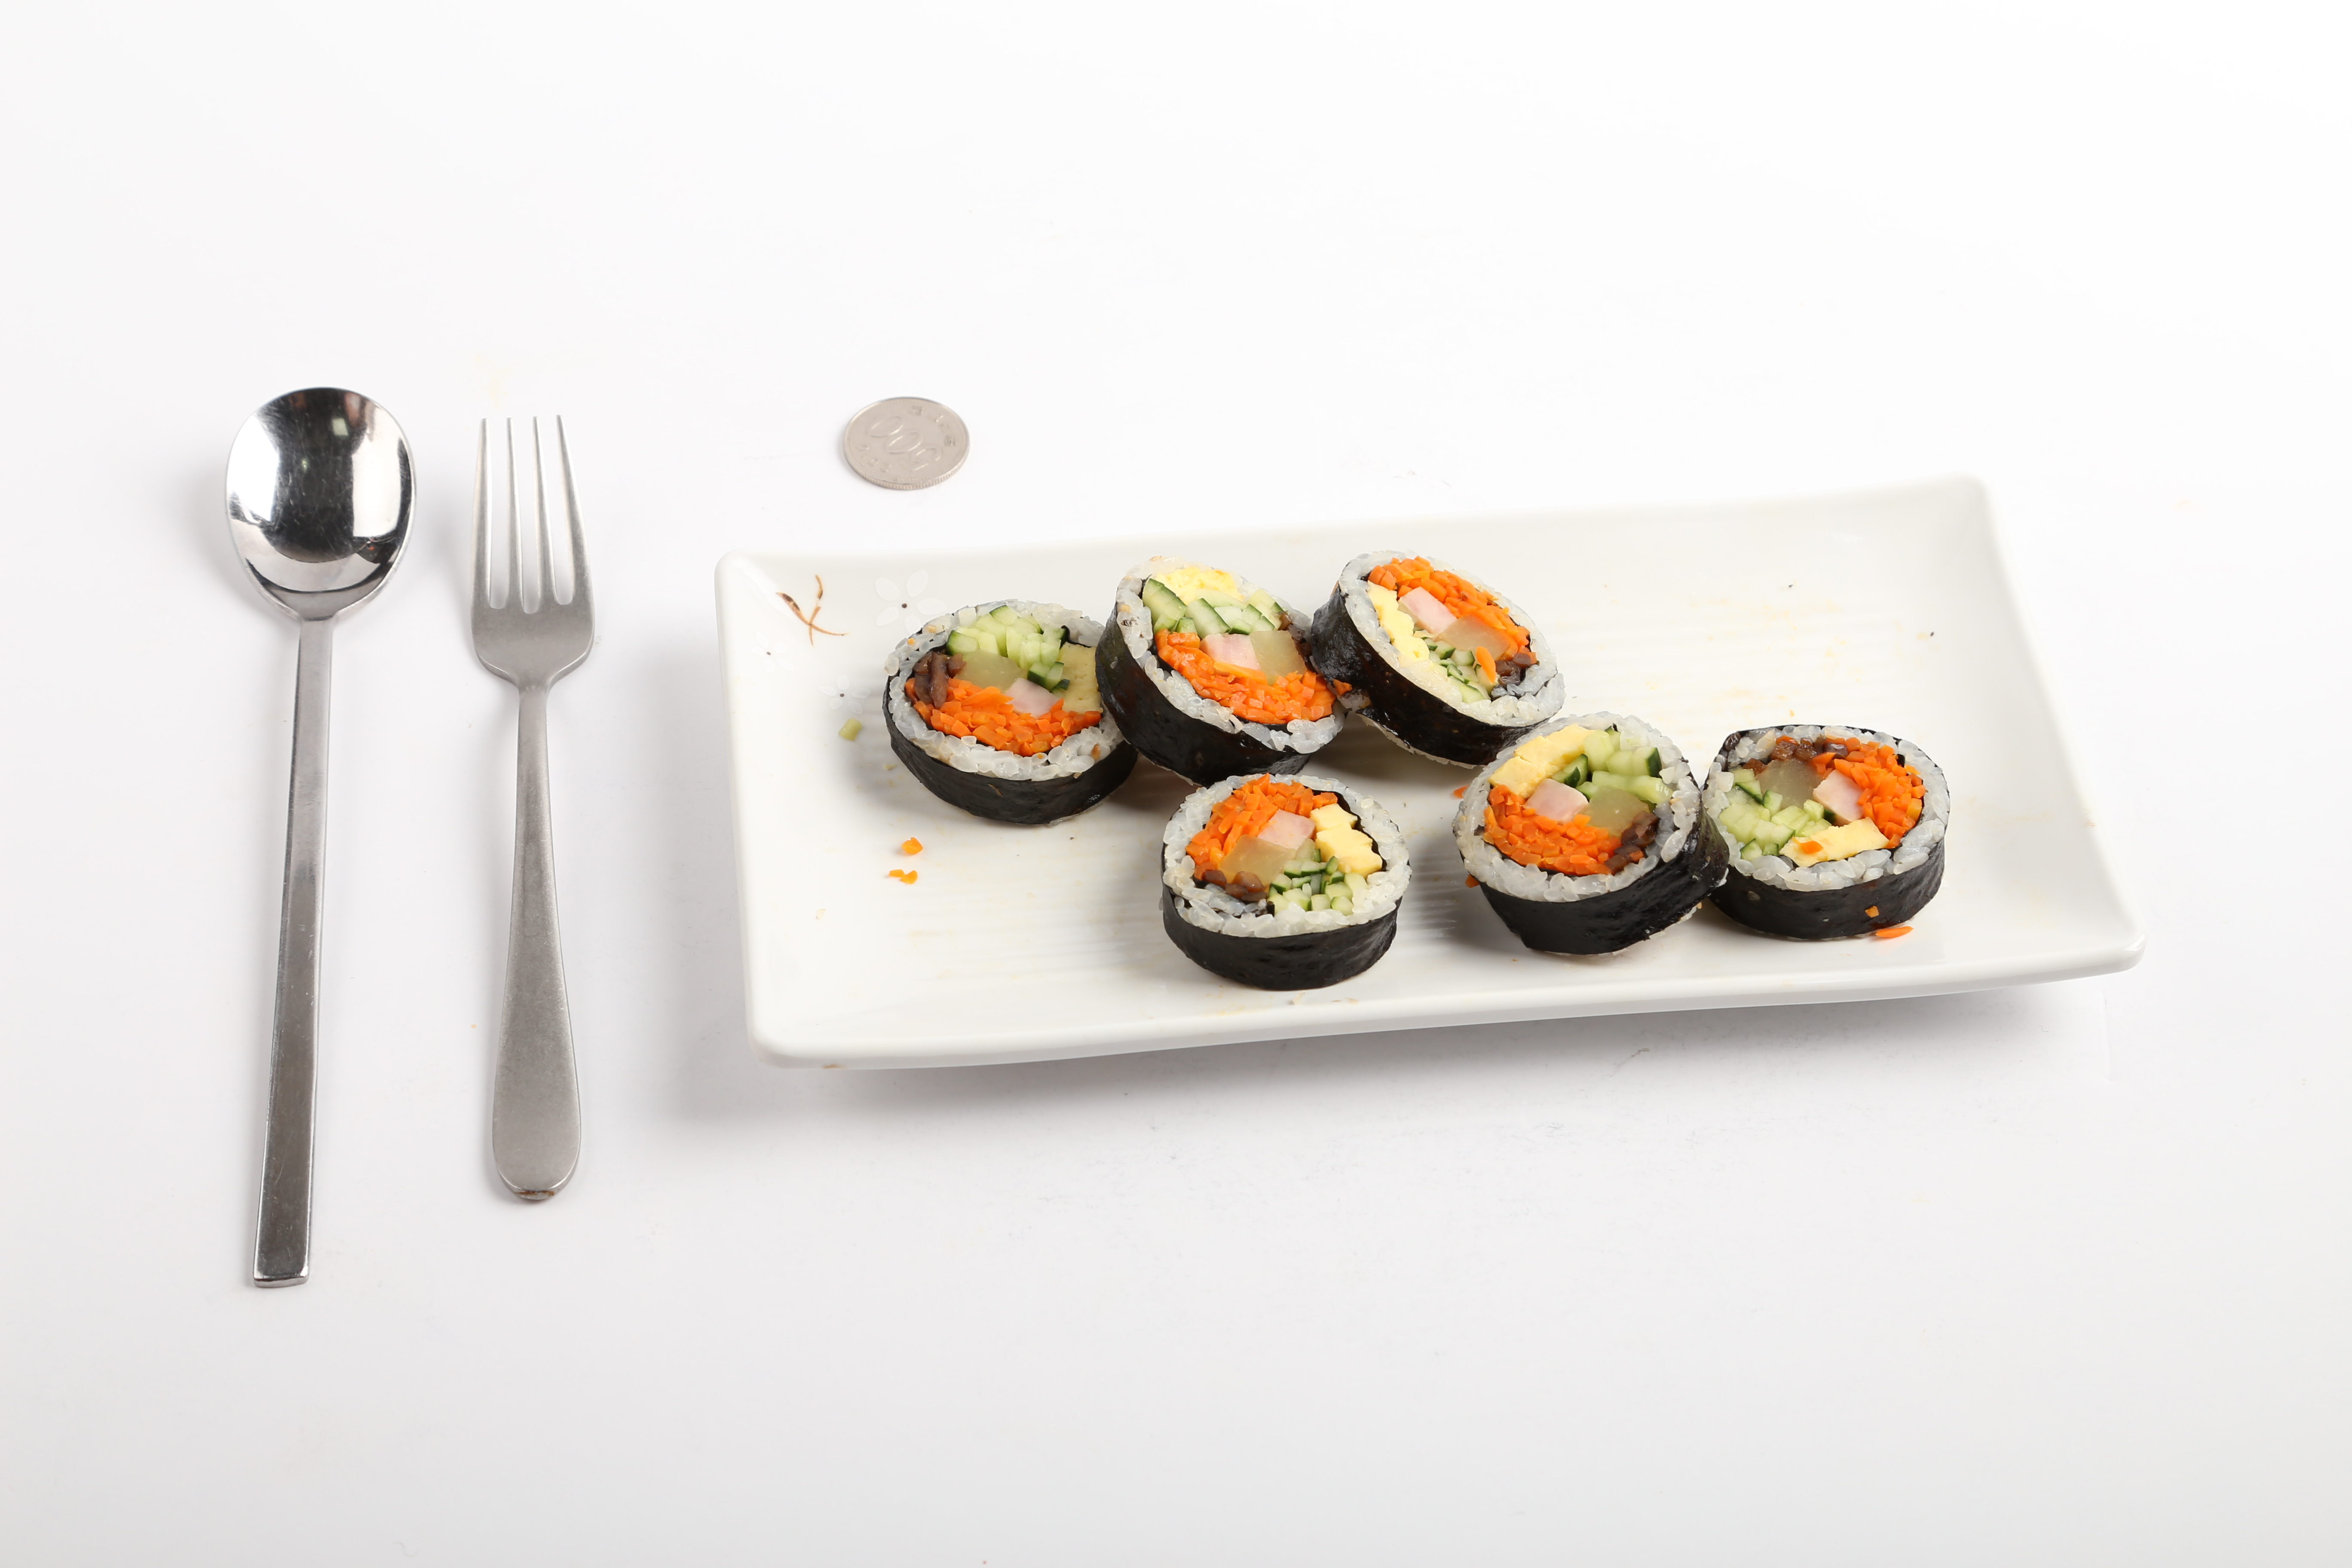dish: (716, 471, 2149, 1078)
ref_coin: (836, 392, 969, 495)
ref_fork: (462, 406, 598, 775)
ref_spoon: (219, 385, 416, 717)
김밥: (875, 548, 1944, 990)
